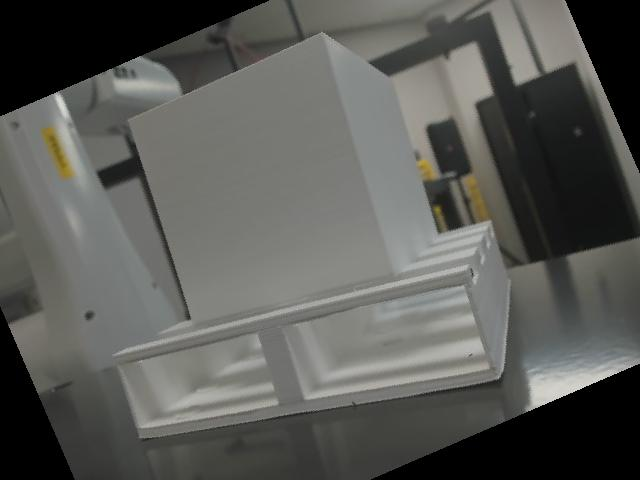white pallet: (95, 26, 551, 444)
